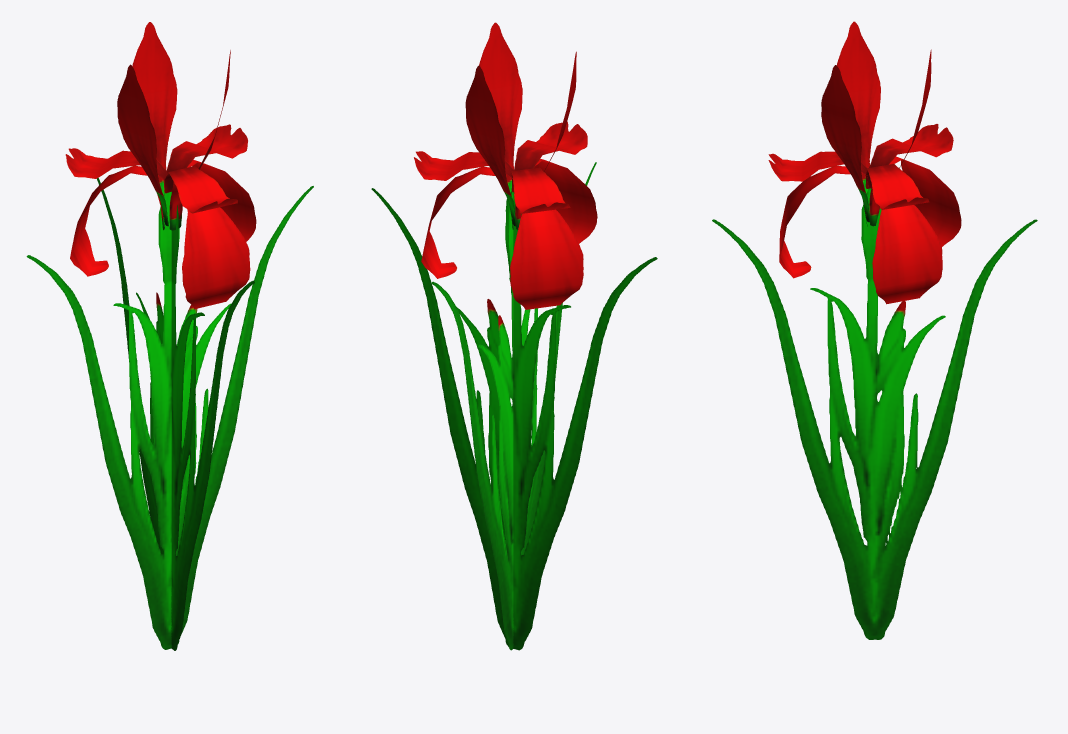
Rendered from Iris_LOD.fbx.
3 renders of one model, left to right at view 1: azimuth 30°, elevation 25°; view 2: azimuth 150°, elevation 25°; view 3: azimuth 270°, elevation 25°, orthographic.
Parts seen in each view (by area): view 1: Iris_LOD0; view 2: Iris_LOD0; view 3: Iris_LOD0.
Boxes of the visible parts, x1,y1,x2,y2 form: Iris_LOD0: [26, 22, 313, 650]; Iris_LOD0: [371, 22, 657, 650]; Iris_LOD0: [712, 21, 1037, 639].
Size of what is drawn, in the model's own units: 50 by 50 by 93.32.
